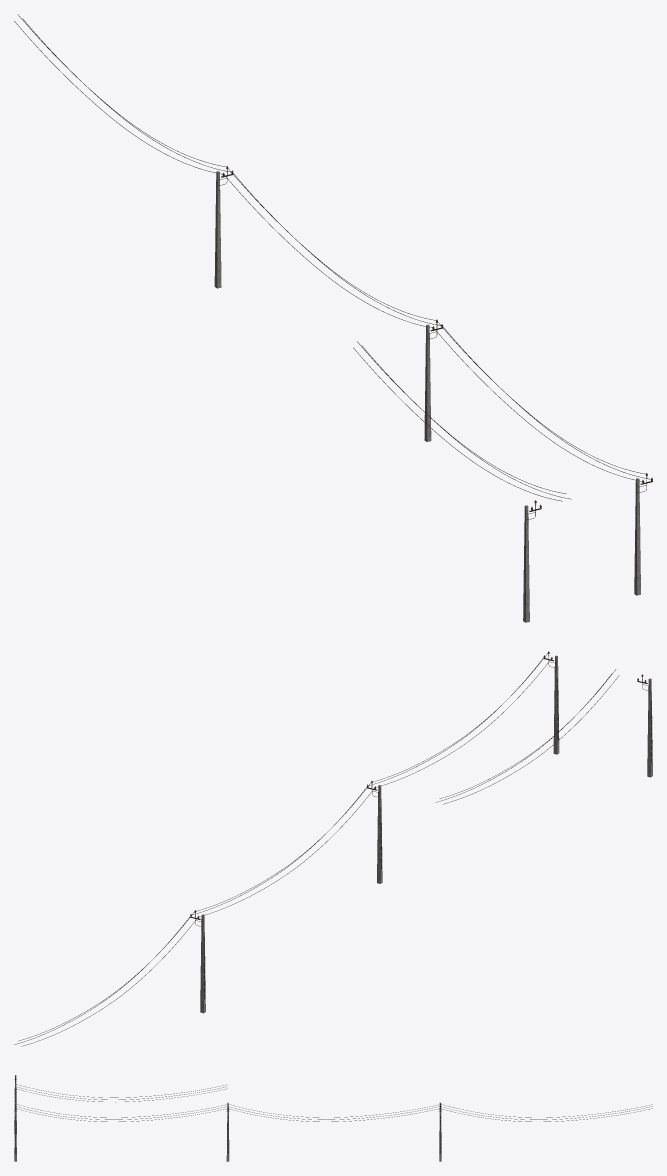
File: power_lines_voltage_electricity.glb
3 renders of one model, top to bottom at view 1: azimuth 30°, elevation 25°; view 2: azimuth 150°, elevation 25°; view 3: azimuth 270°, elevation 25°, orthographic. The views are drawn at different scales.
Visible parts, largest first — view 1: base; view 2: base; view 3: base, 02_all_0.
Boxes of the visible parts, x1=… form: base: x1=14, y1=14, x2=652, y2=595; base: x1=14, y1=651, x2=559, y2=1046; base: x1=14, y1=1102, x2=652, y2=1161; 02_all_0: x1=16, y1=1084, x2=227, y2=1102.
Size of the model in its own units: 7.21 by 6.39 by 61.34.
Materials: 1 (1 with a texture image).
